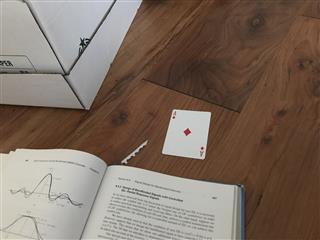AceOfDiamonds: (161, 108, 211, 159)
